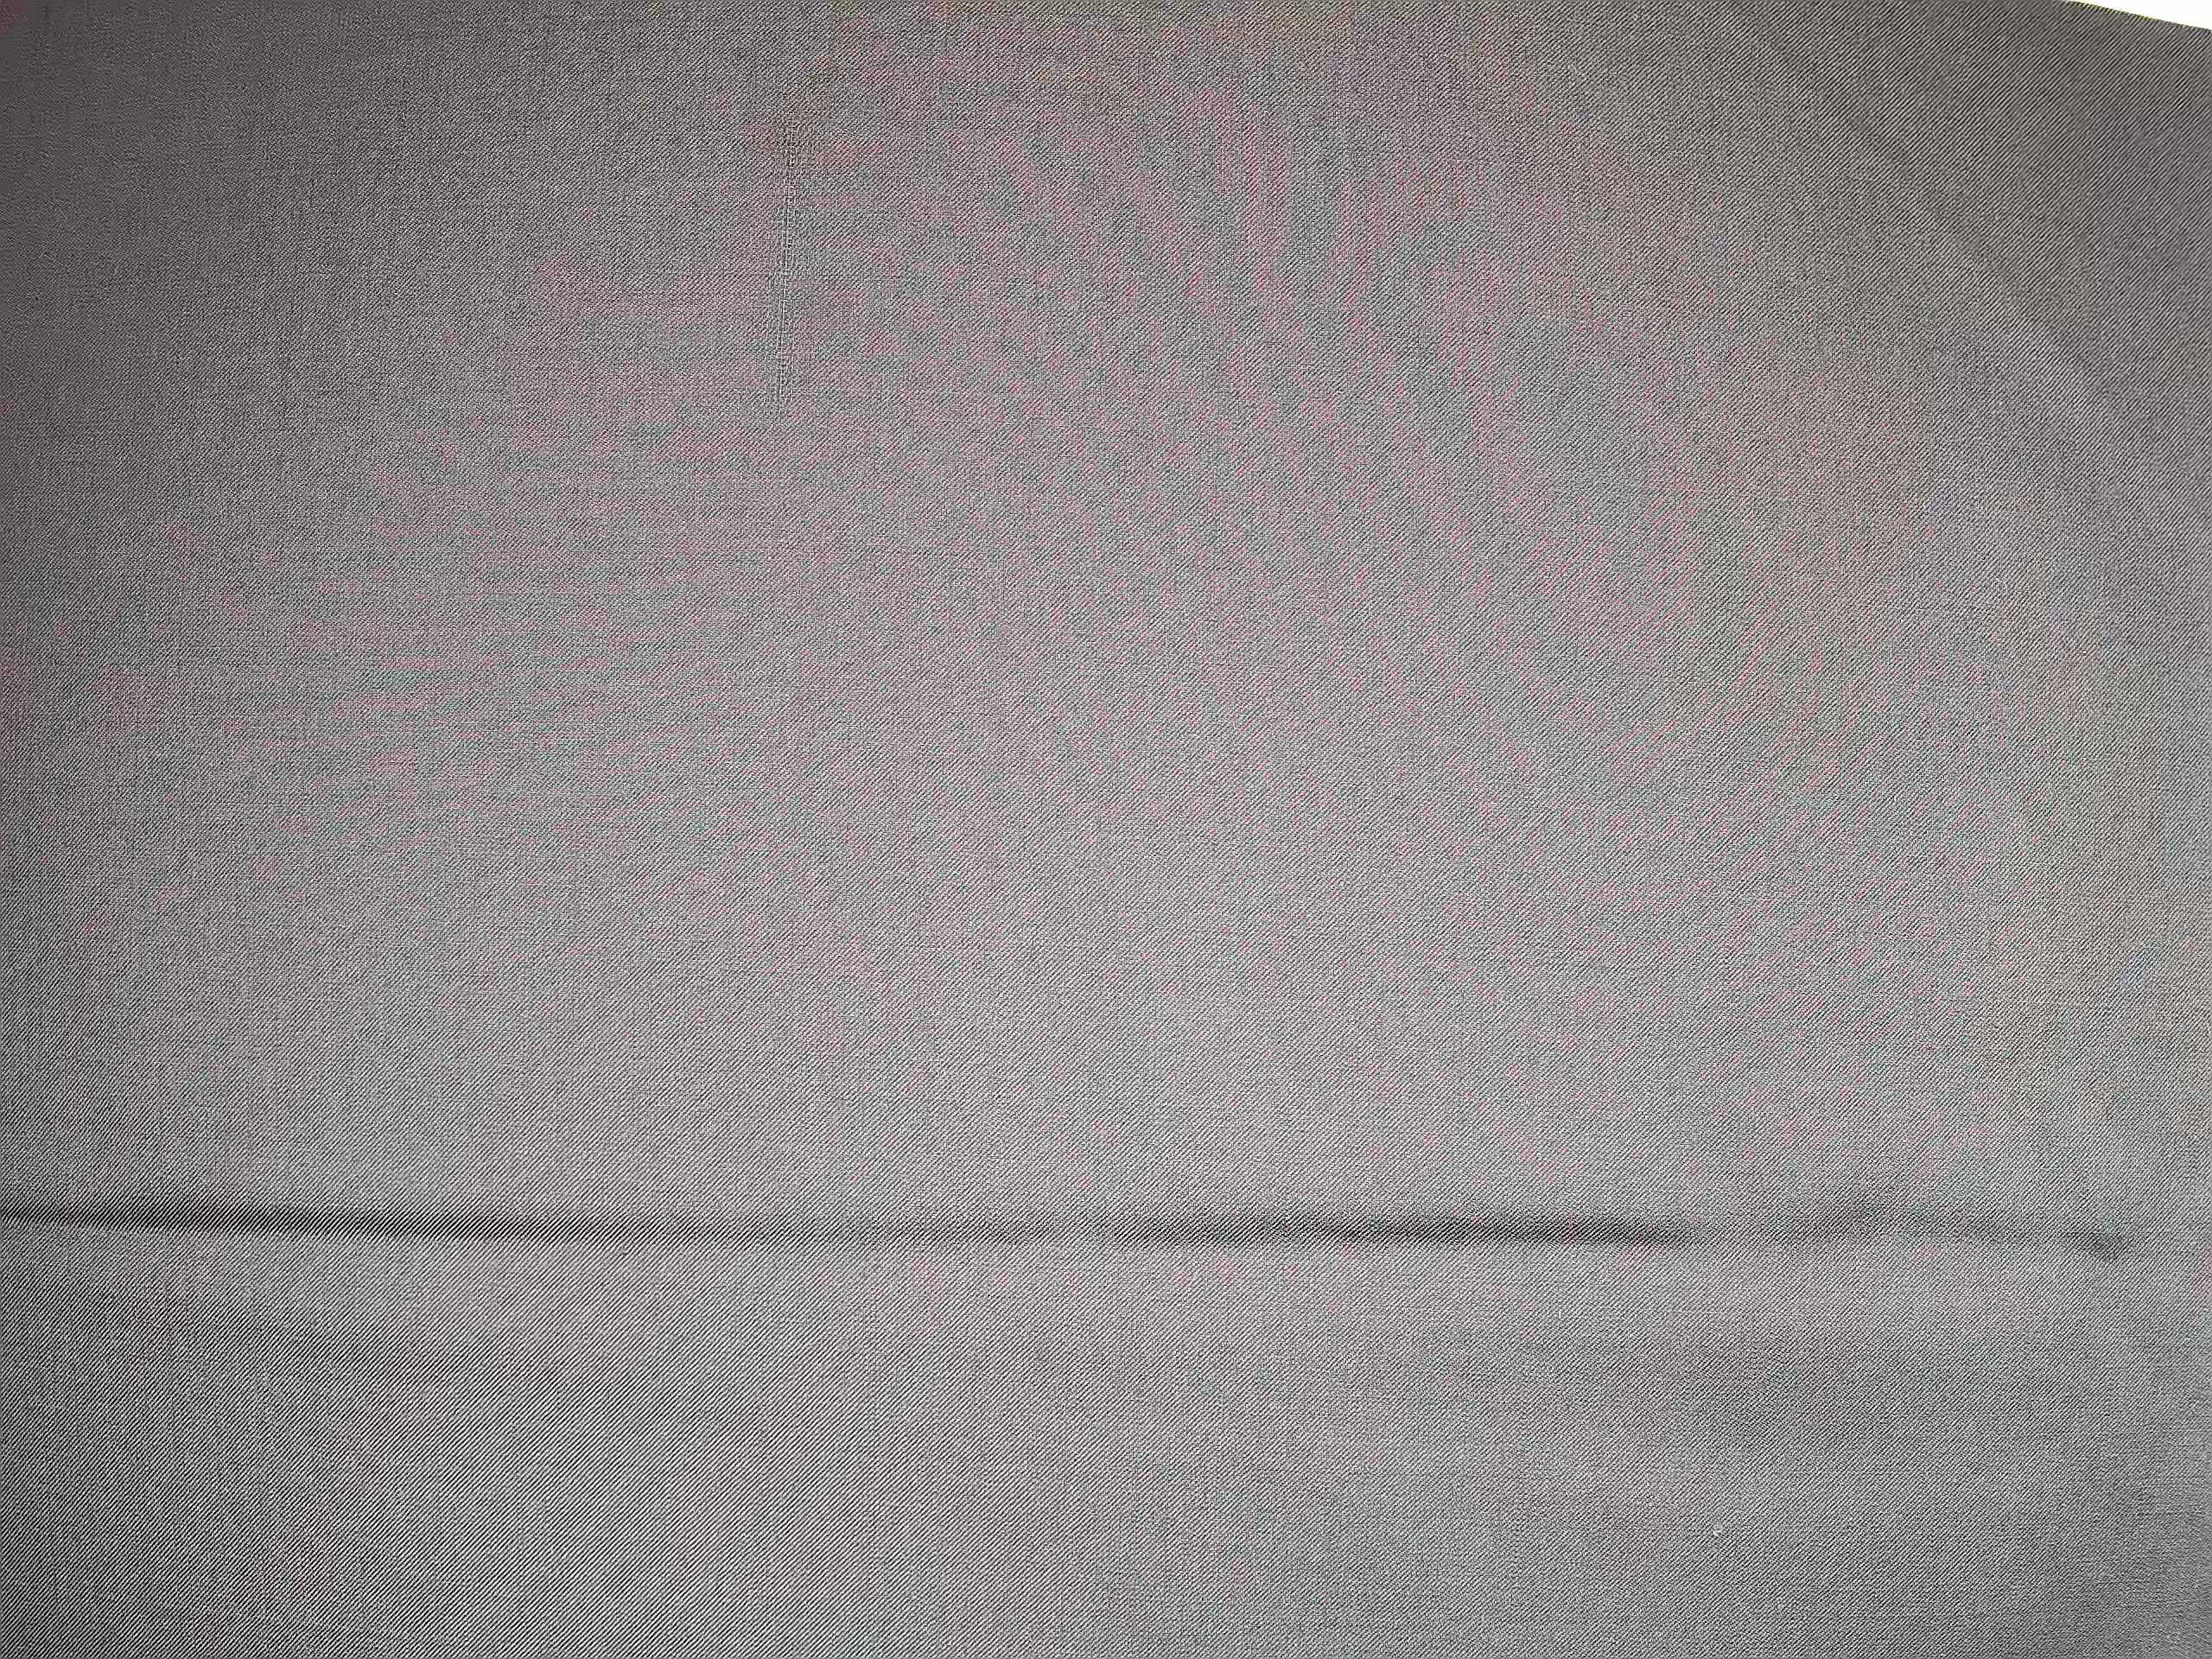jumps: (756, 85, 831, 457)
